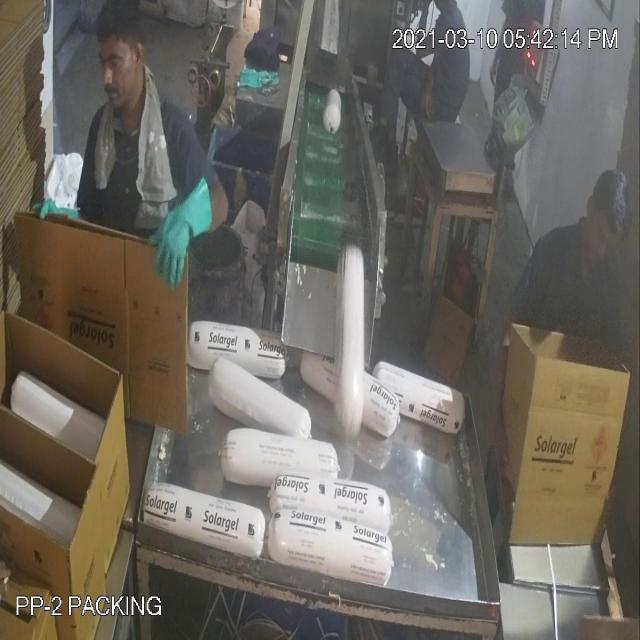Gloves: (54, 118, 507, 391)
